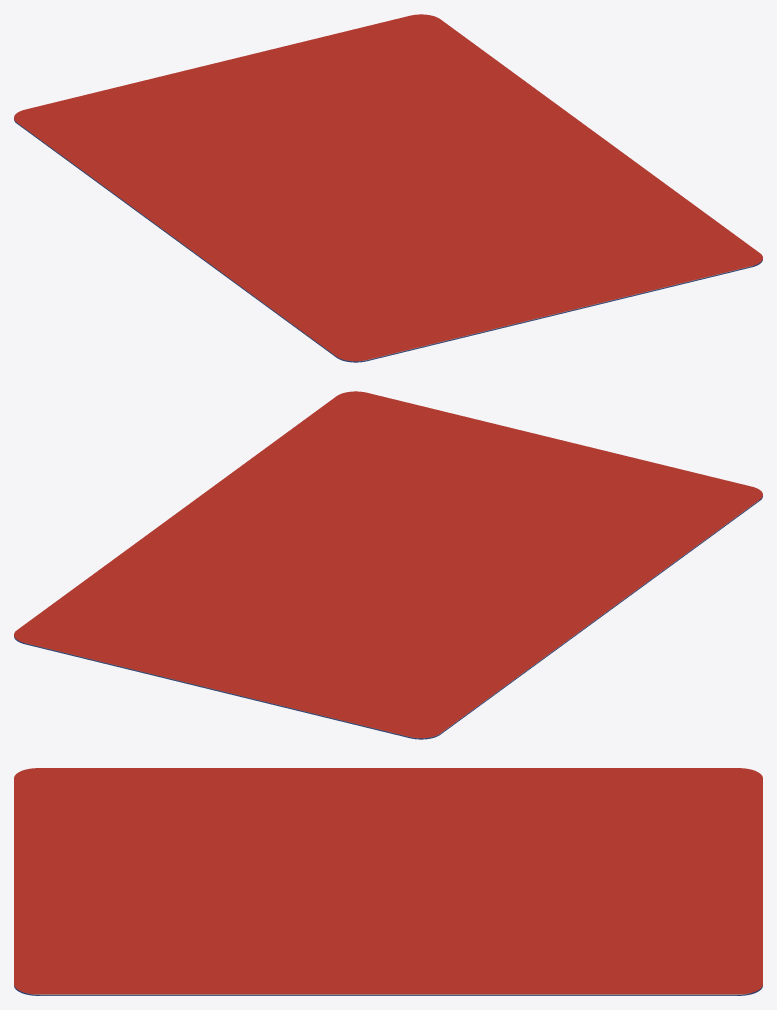
Rendered from OP_CARD.glb.
3 views of the same model, one above another, from view 1: azimuth 30°, elevation 25°; view 2: azimuth 150°, elevation 25°; view 3: azimuth 270°, elevation 25° (orthographic). The views are drawn at different scales.
Visible parts, largest first — view 1: FrontPrint, BackPrint, ONE_PIECE_CARD_63x88mm_R3mm; view 2: FrontPrint, BackPrint, ONE_PIECE_CARD_63x88mm_R3mm; view 3: FrontPrint, ONE_PIECE_CARD_63x88mm_R3mm, BackPrint.
Boxes of the visible parts, x1,y1,x2,y2 form: FrontPrint: (14, 14, 762, 361); BackPrint: (14, 119, 762, 362); ONE_PIECE_CARD_63x88mm_R3mm: (18, 123, 751, 361); FrontPrint: (14, 391, 762, 738); BackPrint: (14, 496, 762, 739); ONE_PIECE_CARD_63x88mm_R3mm: (25, 500, 758, 738); FrontPrint: (14, 768, 762, 994); ONE_PIECE_CARD_63x88mm_R3mm: (27, 993, 749, 995); BackPrint: (14, 985, 762, 995).
Size of the model in its own units: 0.0627 by 0.000198 by 0.0877.
